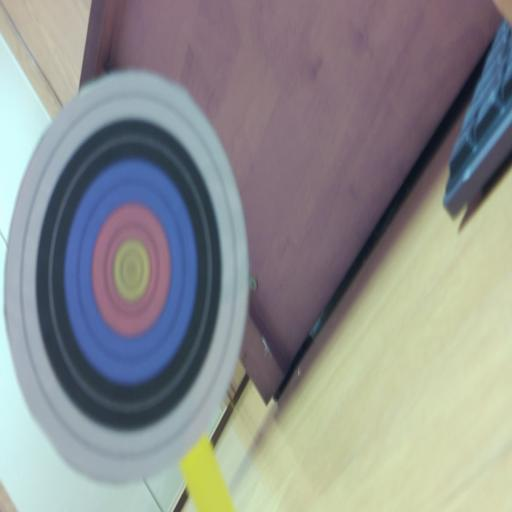target: (4, 73, 249, 479)
